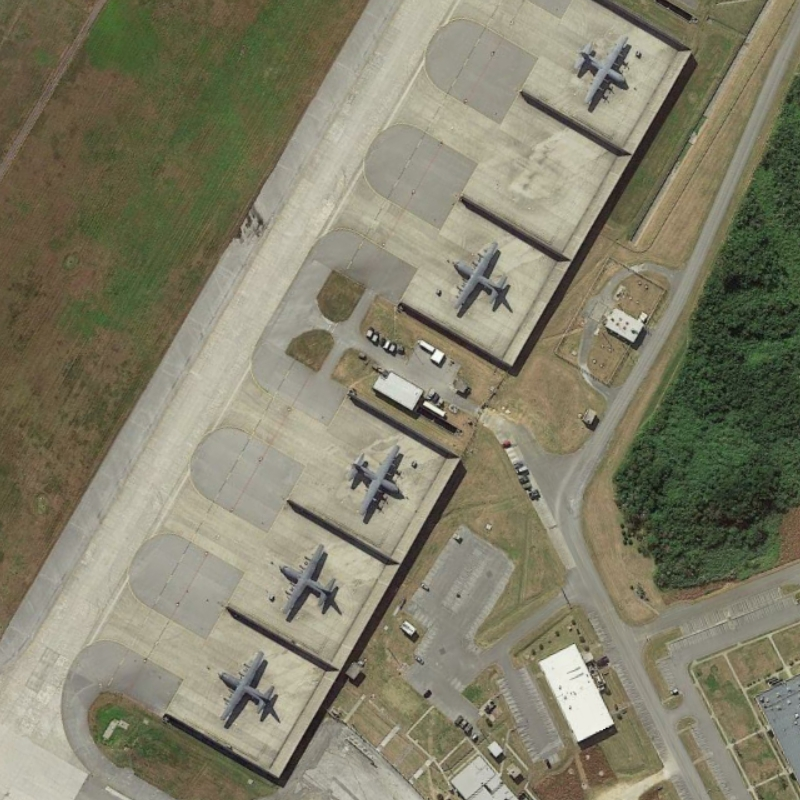A2: (271, 537, 348, 624), (210, 648, 283, 732), (443, 234, 515, 317), (340, 439, 411, 522), (569, 33, 639, 111)
